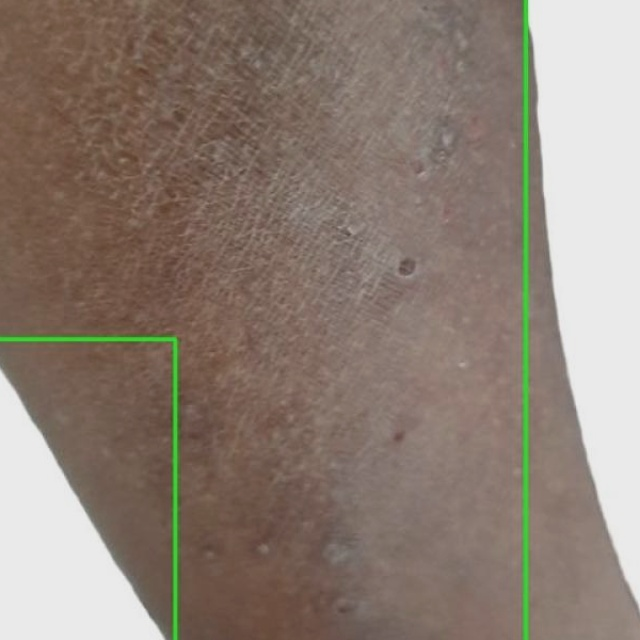Contact Dermatitis: (526, 0, 639, 639), (0, 339, 175, 639)
